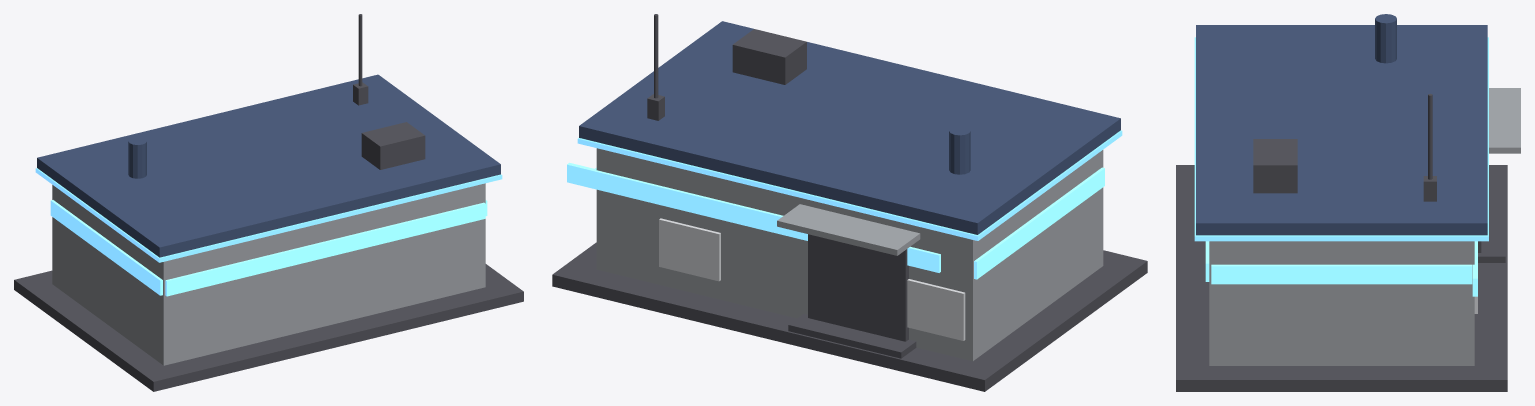
File: us_barracks.glb
3 views of the same model, side by side, from view 1: azimuth 30°, elevation 25°; view 2: azimuth 150°, elevation 25°; view 3: azimuth 270°, elevation 25° (orthographic). The views are drawn at different scales.
Visible parts, largest first — view 1: RoofSlab, Main, Pad, WinB, RoofTrim, VentBox, WinR, VentPipe; view 2: RoofSlab, Main, Pad, Entry, WinF, RoofTrim, Awning, VentBox, PanelA, PanelB, WinR, Step (+1 smaller); view 3: RoofSlab, Main, Pad, WinL, RoofTrim, VentBox, Awning, Step, VentPipe, Antenna, AntennaBase.
Boxes of the visible parts, x1,y1,x2,y2 form: RoofSlab: (37, 74, 500, 257); Main: (52, 183, 485, 365); Pad: (14, 264, 523, 391); WinB: (165, 202, 485, 296); RoofTrim: (35, 168, 502, 262); VentBox: (361, 122, 425, 169); WinR: (50, 200, 162, 295); VentPipe: (128, 137, 146, 178); RoofSlab: (579, 21, 1120, 234); Main: (596, 148, 1103, 361); Pad: (552, 242, 1147, 391); Entry: (808, 234, 908, 341); WinF: (567, 162, 940, 272); RoofTrim: (577, 130, 1122, 240); Awning: (777, 204, 920, 255); VentBox: (732, 29, 806, 84); PanelA: (659, 218, 720, 281); PanelB: (907, 279, 965, 340); WinR: (974, 167, 1104, 279); Step: (788, 314, 916, 358); RoofSlab: (1196, 25, 1487, 235); Main: (1209, 241, 1474, 365); Pad: (1176, 165, 1507, 391); WinL: (1211, 264, 1472, 284); RoofTrim: (1194, 37, 1488, 241); VentBox: (1253, 139, 1297, 193); Awning: (1489, 88, 1520, 153); Step: (1478, 200, 1505, 262); VentPipe: (1375, 14, 1396, 63); Antenna: (1428, 93, 1432, 179); AntennaBase: (1423, 176, 1436, 201).
Bounding box in the file's own units: 11.5 × 6.6 × 7.8.
